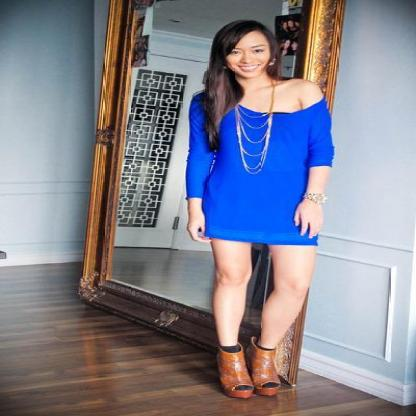dress: (186, 98, 333, 245)
shoe: (199, 341, 290, 399)
